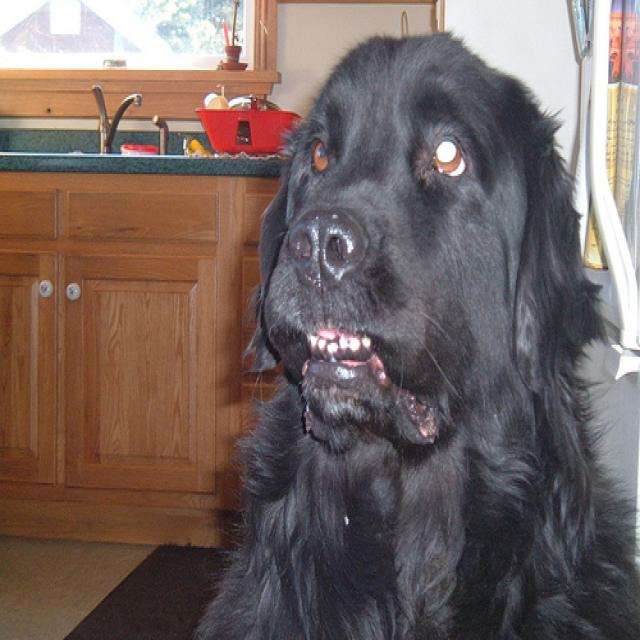dog-newfoundland: (195, 9, 637, 637)
